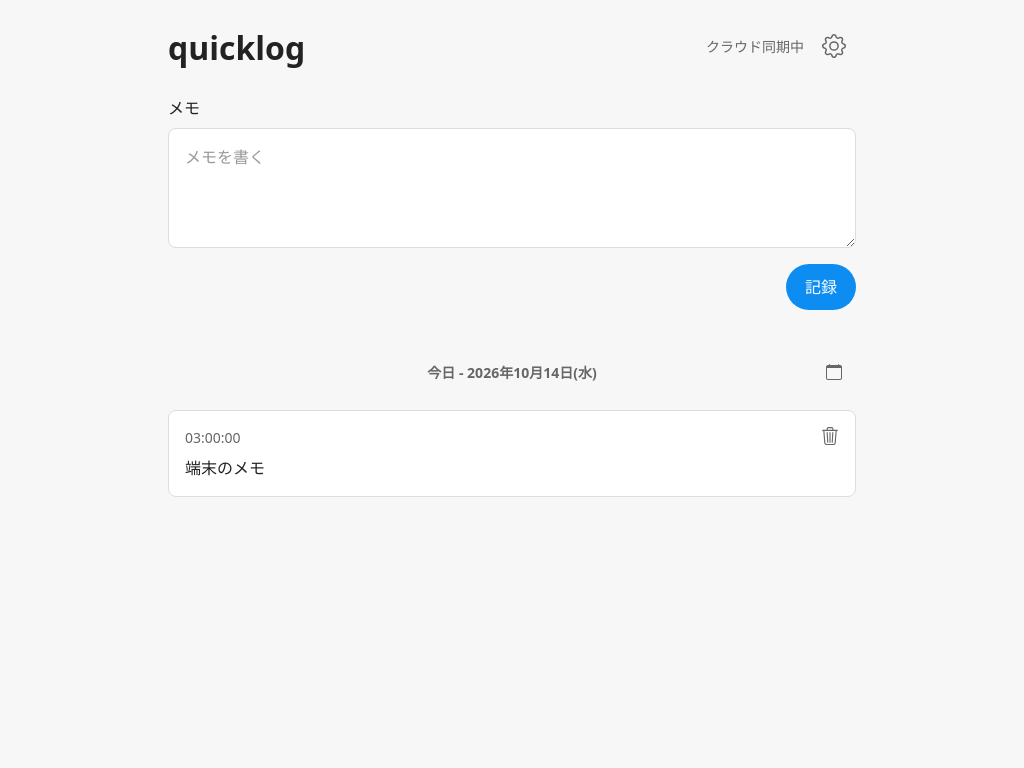
Test: App: 認証状態と同期の接続 › 認証済みで画面が visible に戻ると最新メールを取得して表示する
Step 1. Click the button named "設定" → click(834, 46), box left=812, top=24, right=856, bottom=68
(page scrolled)
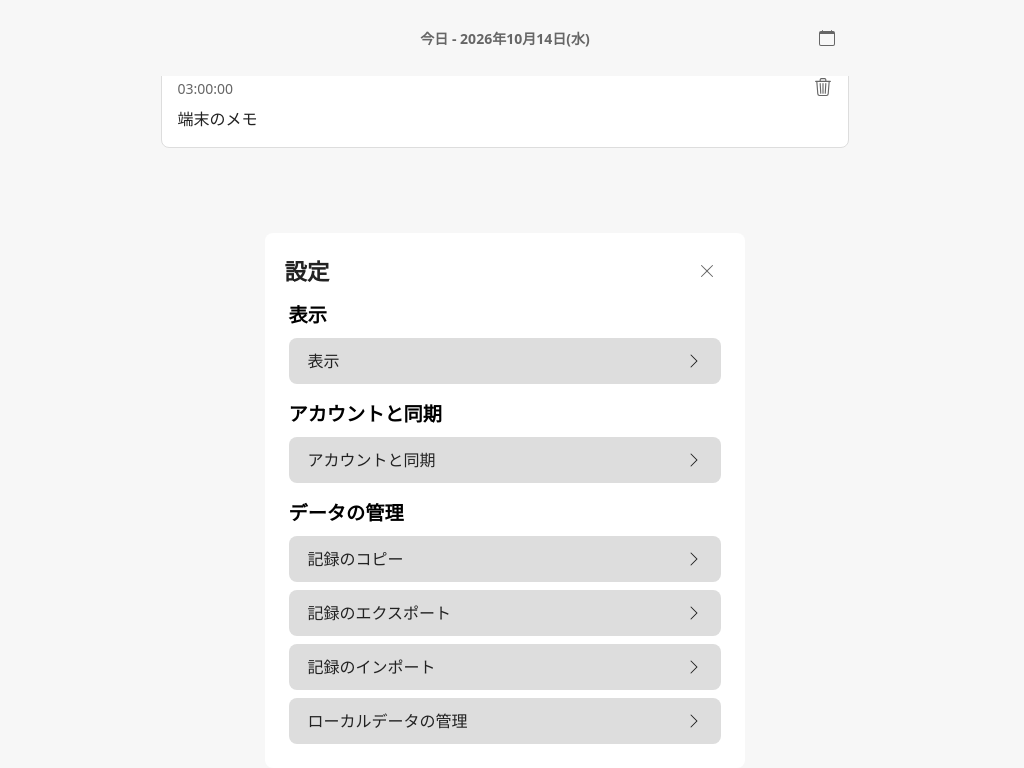
Step 2. Click the button "アカウントと同期" → click(372, 460), box left=288, top=437, right=720, bottom=483
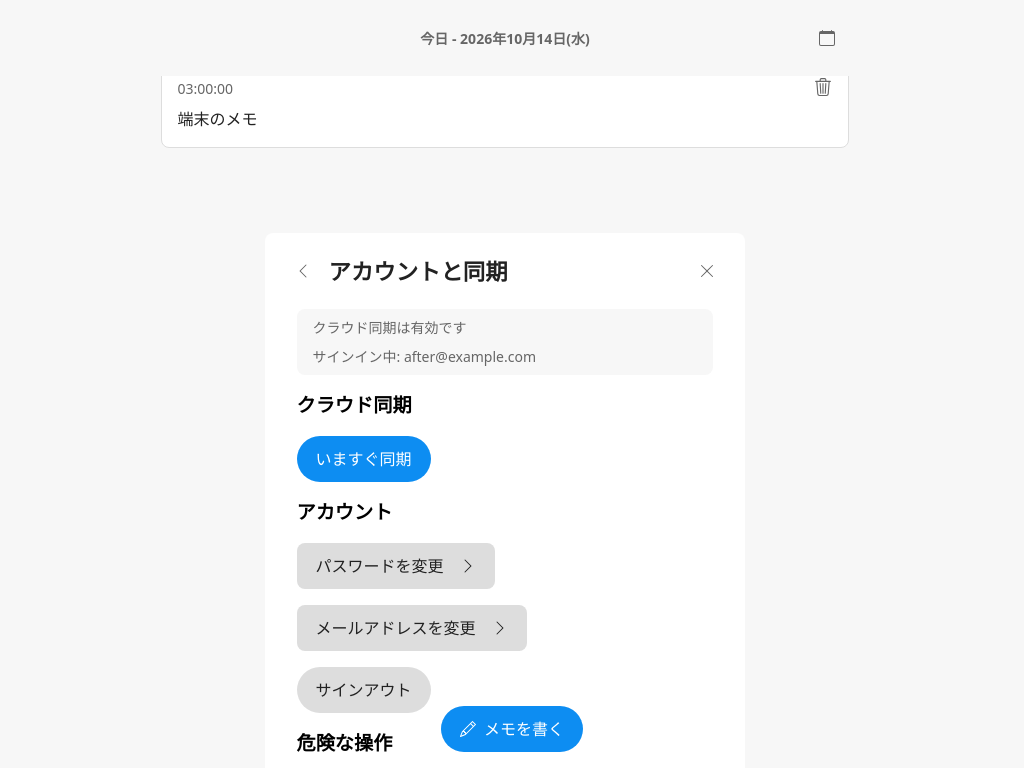
Expected: the text "サインイン中: after@example.com" is shown, left=312, top=347, right=536, bottom=366
